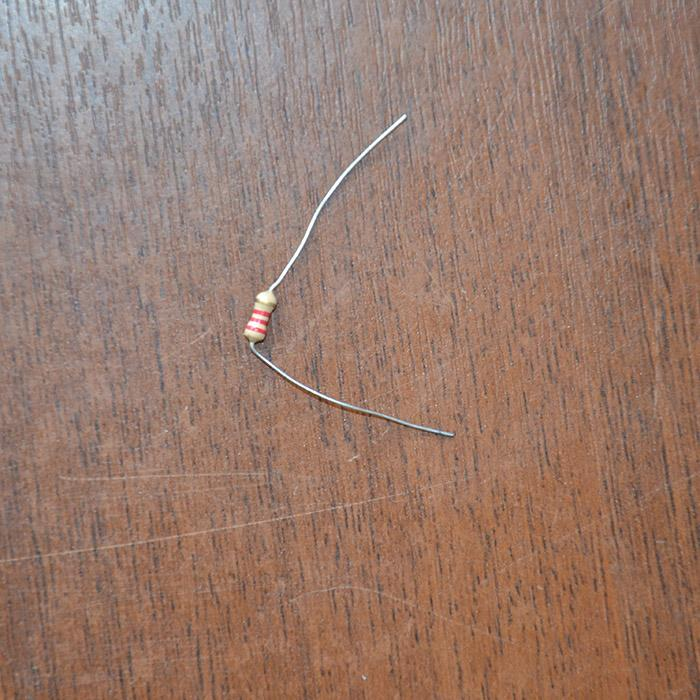resistor: (244, 288, 278, 343)
